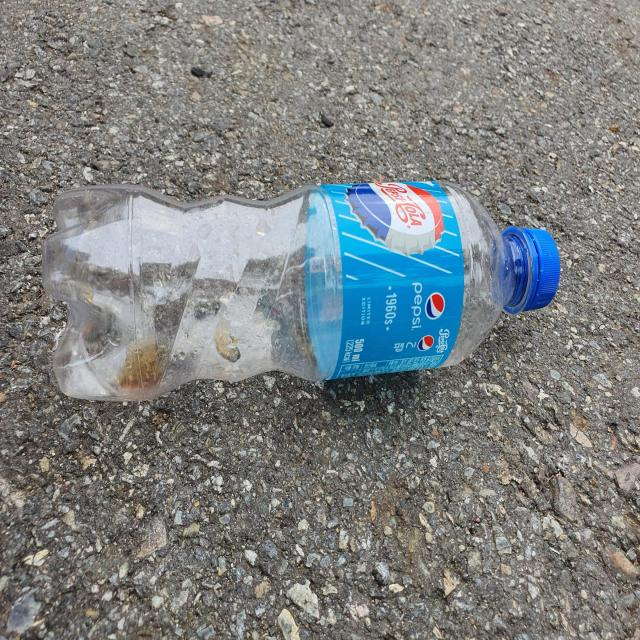plastic: (42, 180, 561, 401)
